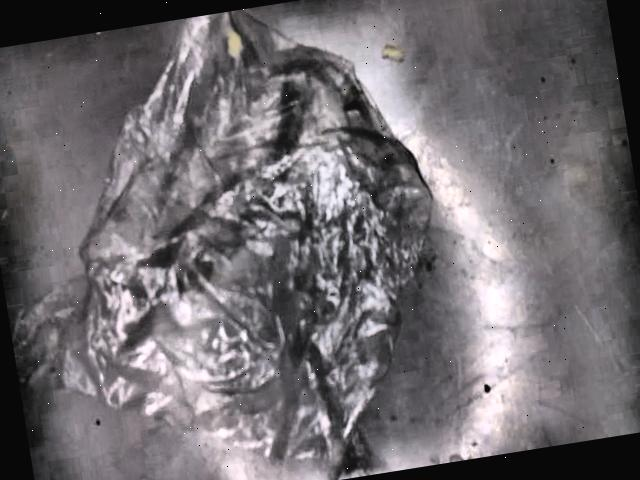Plastic: (11, 10, 435, 480)
